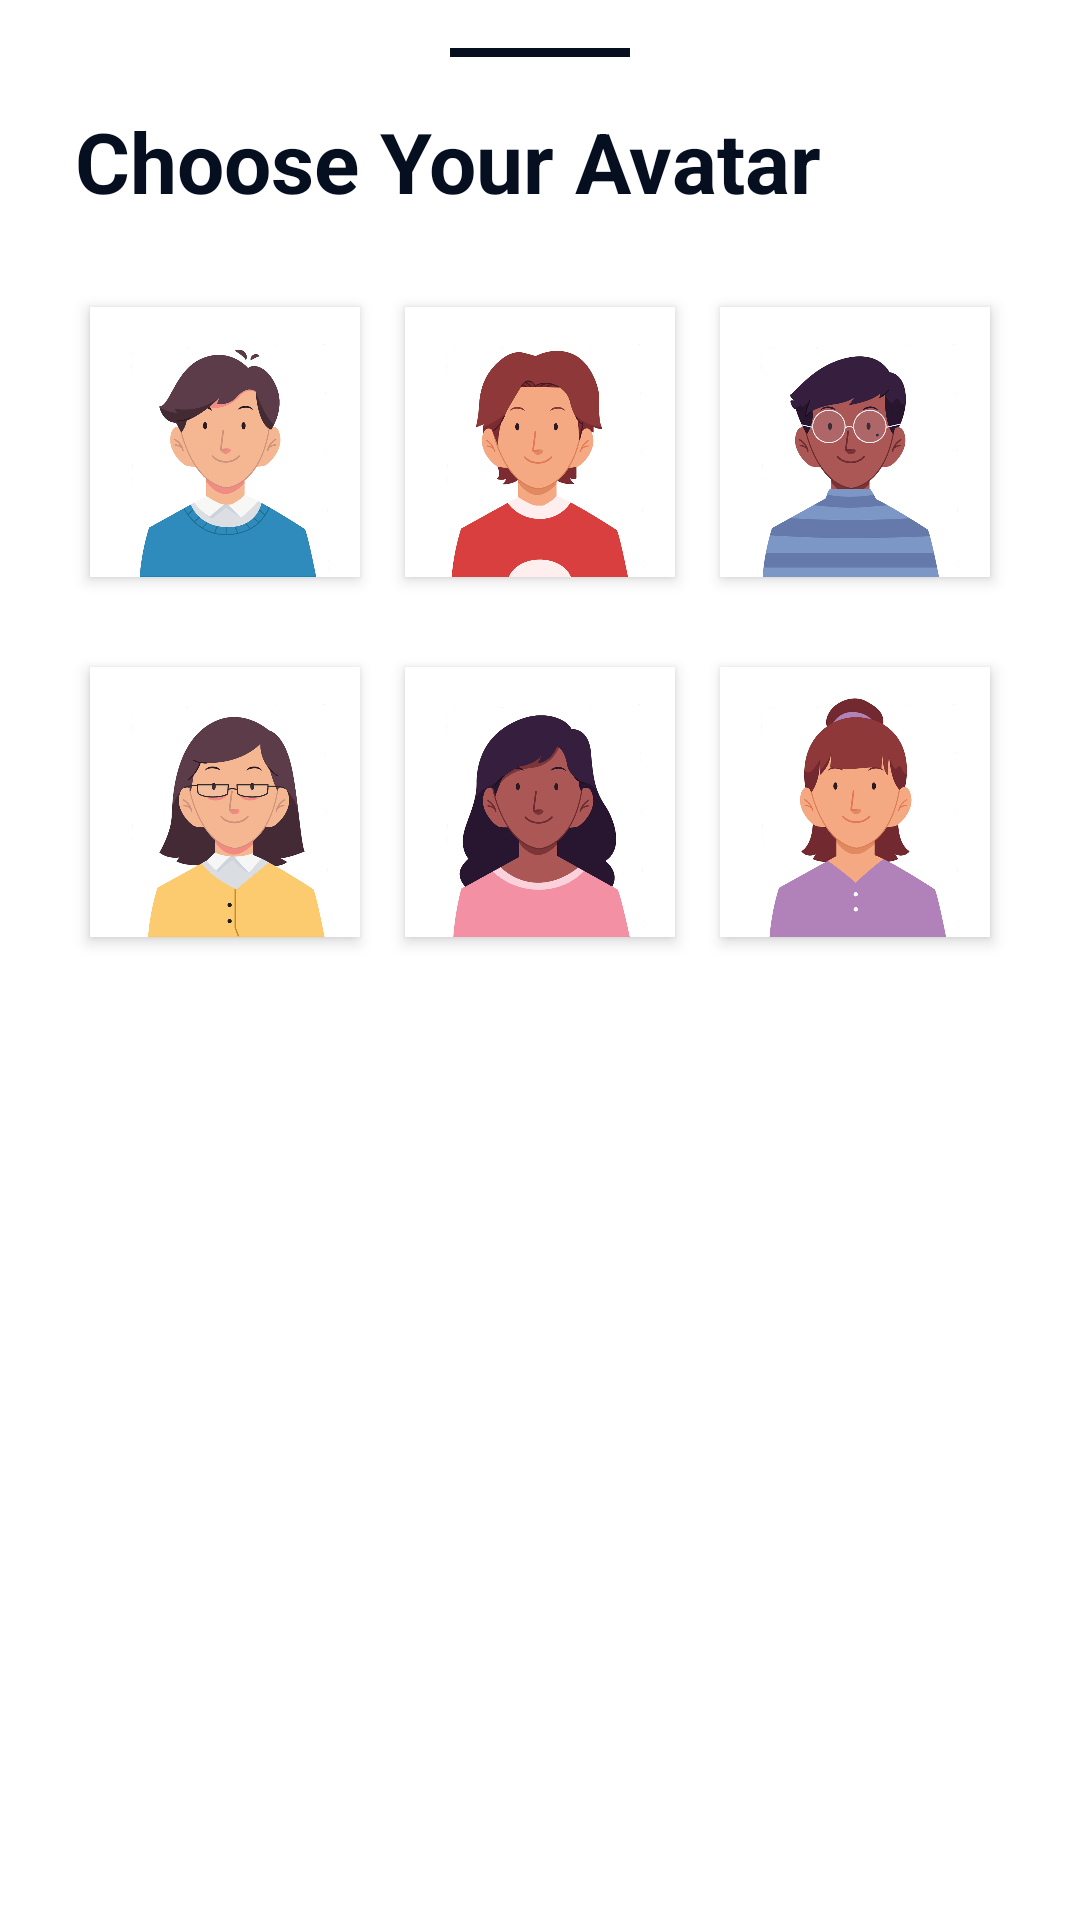

Screen size 1080w x 1920h. Icon name, then its center in pixels as point (x, y):
boy: point (228, 463), point (540, 464), point (851, 466)
girl: point (858, 817), point (541, 826), point (236, 827)
